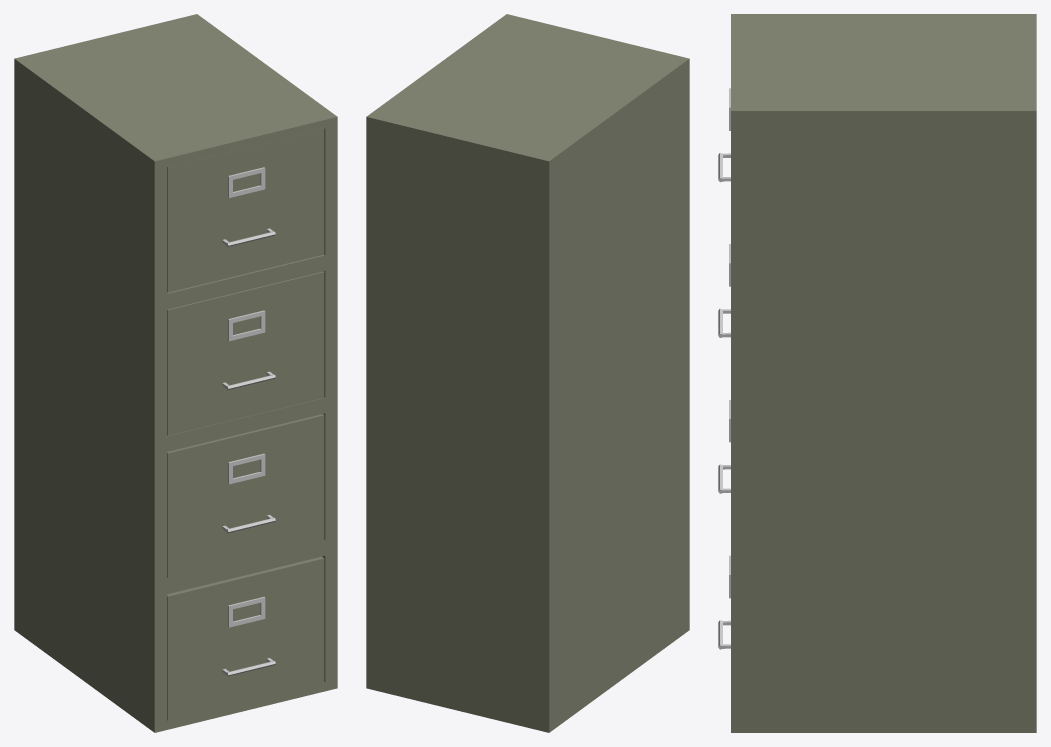
File: filingCabinet.fbx
The picture shows the model from 3 angles, left to right: view 1: azimuth 30°, elevation 25°; view 2: azimuth 150°, elevation 25°; view 3: azimuth 270°, elevation 25°; orthographic projection. The views are drawn at different scales.
Visible parts, largest first — view 1: Cabinet, Drawer.008, Drawer.010, Drawer.006, Drawer.004; view 2: Cabinet; view 3: Cabinet.
Boxes of the visible parts, <box> form: Cabinet: <box>14,14,337,732</box>; Drawer.008: <box>167,414,324,578</box>; Drawer.010: <box>167,556,324,720</box>; Drawer.006: <box>167,271,324,435</box>; Drawer.004: <box>167,129,324,292</box>; Cabinet: <box>366,14,689,732</box>; Cabinet: <box>731,14,1036,732</box>.
Bounding box in the file's own units: 200 × 597 × 277.
